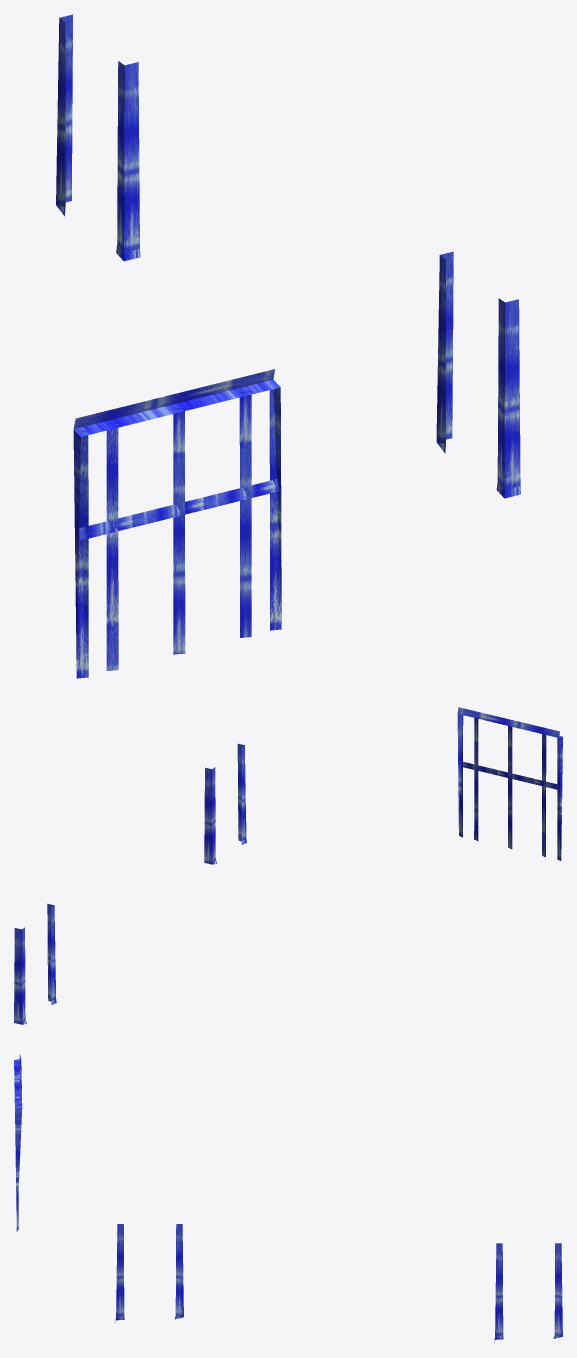
3 renders of one model, top to bottom at view 1: azimuth 30°, elevation 25°; view 2: azimuth 150°, elevation 25°; view 3: azimuth 270°, elevation 25°, orthographic. The views are drawn at different scales.
Bounding box in the file's own units: 0.7207 × 0.4044 × 1.26.
1 material, 1 textured.
